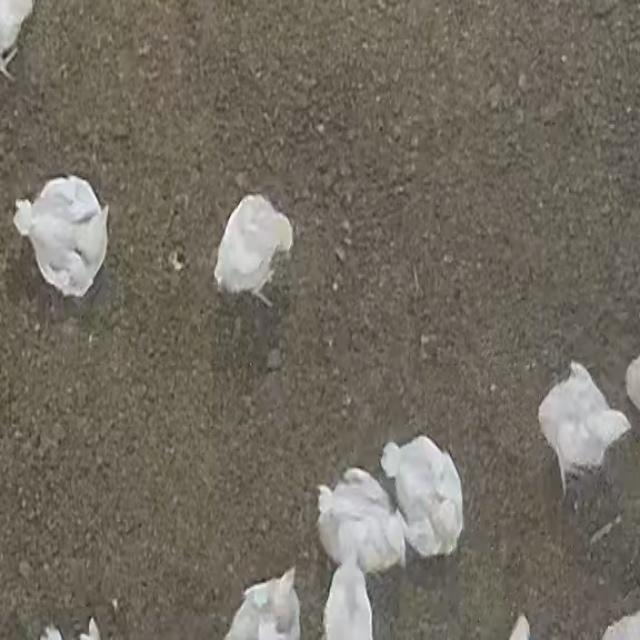chicken: (12, 169, 114, 302), (541, 358, 632, 495), (211, 182, 298, 312), (314, 466, 409, 576), (382, 434, 465, 558)
